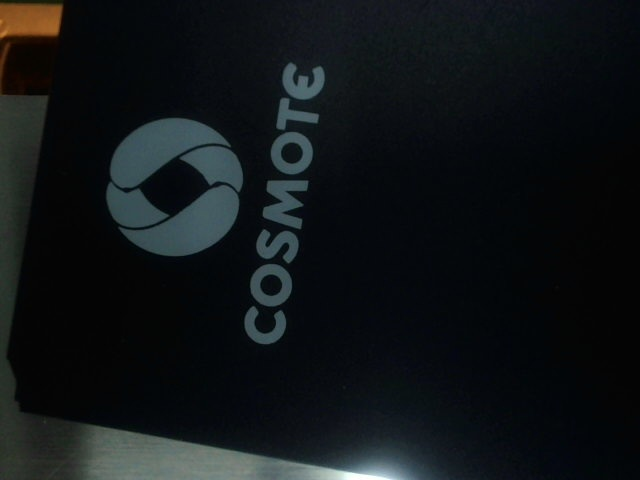AU_COSMOTE: (102, 39, 326, 349)
